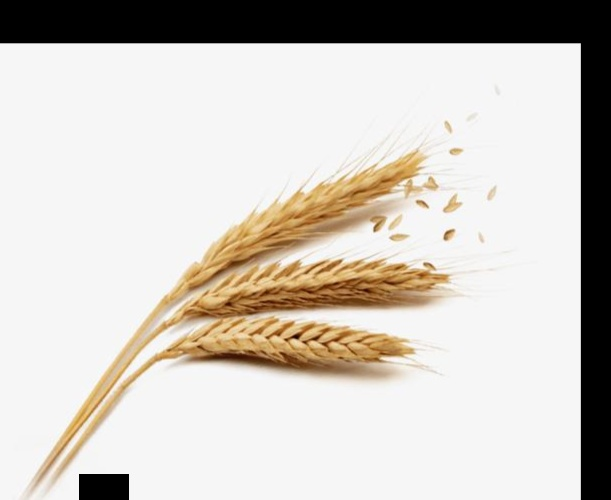wheat: (173, 147, 429, 282), (92, 312, 433, 400), (162, 250, 458, 321)
